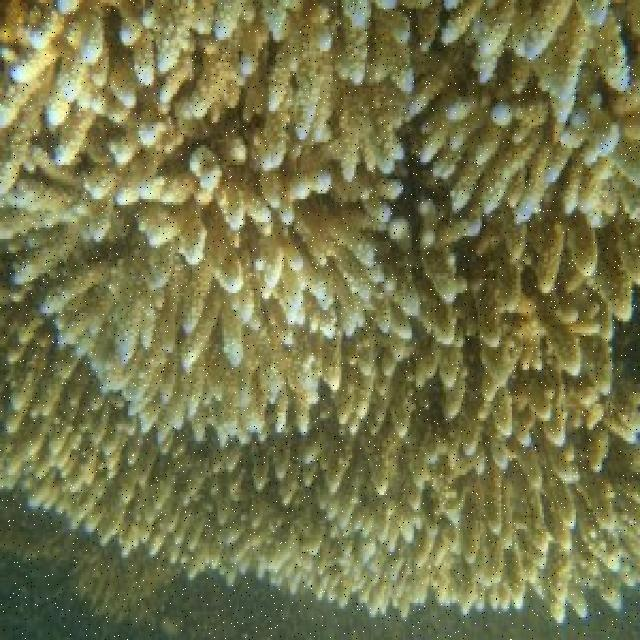Healthy: (3, 3, 639, 628)
